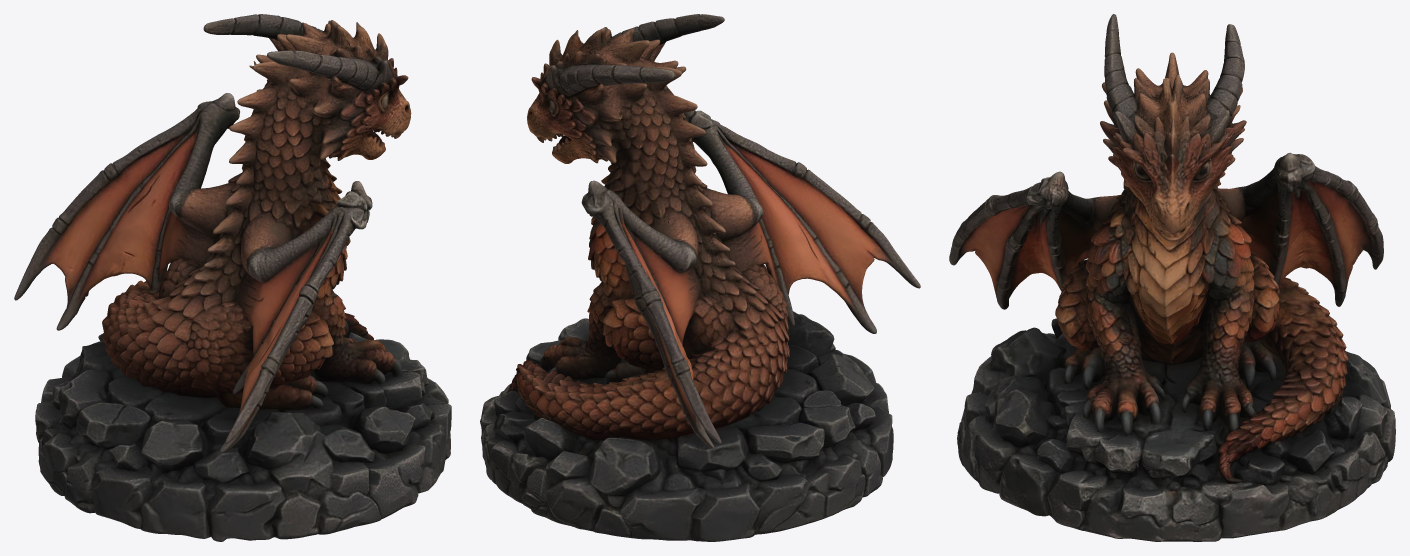
Rendered from compress_hfnhibpswlujqibv.glb.
3 views of the same model, side by side, from view 1: azimuth 30°, elevation 25°; view 2: azimuth 150°, elevation 25°; view 3: azimuth 270°, elevation 25° (orthographic). The views are drawn at different scales.
Visible parts, largest first — view 1: tripo_node_91d5f416-4805-4fd4-bc3f-83346ad5a2fd; view 2: tripo_node_91d5f416-4805-4fd4-bc3f-83346ad5a2fd; view 3: tripo_node_91d5f416-4805-4fd4-bc3f-83346ad5a2fd.
Part boxes in pixels (bbox=[...]): tripo_node_91d5f416-4805-4fd4-bc3f-83346ad5a2fd: bbox=[14, 14, 451, 541]; tripo_node_91d5f416-4805-4fd4-bc3f-83346ad5a2fd: bbox=[480, 14, 920, 541]; tripo_node_91d5f416-4805-4fd4-bc3f-83346ad5a2fd: bbox=[949, 14, 1395, 541].
Size of the model in its own units: 0.8912 by 1 by 0.9249.
Materials: 1 (1 with a texture image).
